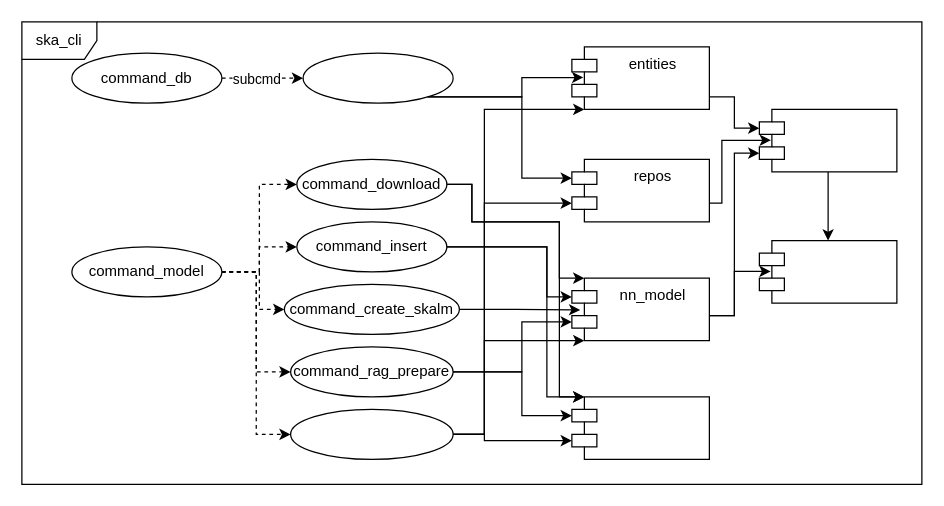
The diagram is 944 pixels wide and 506 high, and some of its shapes have lost their labels. Here are the shapes that lost their labels. From the top down, the centre of each, then its label:
At pixel 377 77: "command_migrate".
At pixel 827 140: "seaorm lib".
At pixel 827 271: "ska_llm".
At pixel 371 433: "command_rag_invoke".
At pixel 640 427: "utils".
